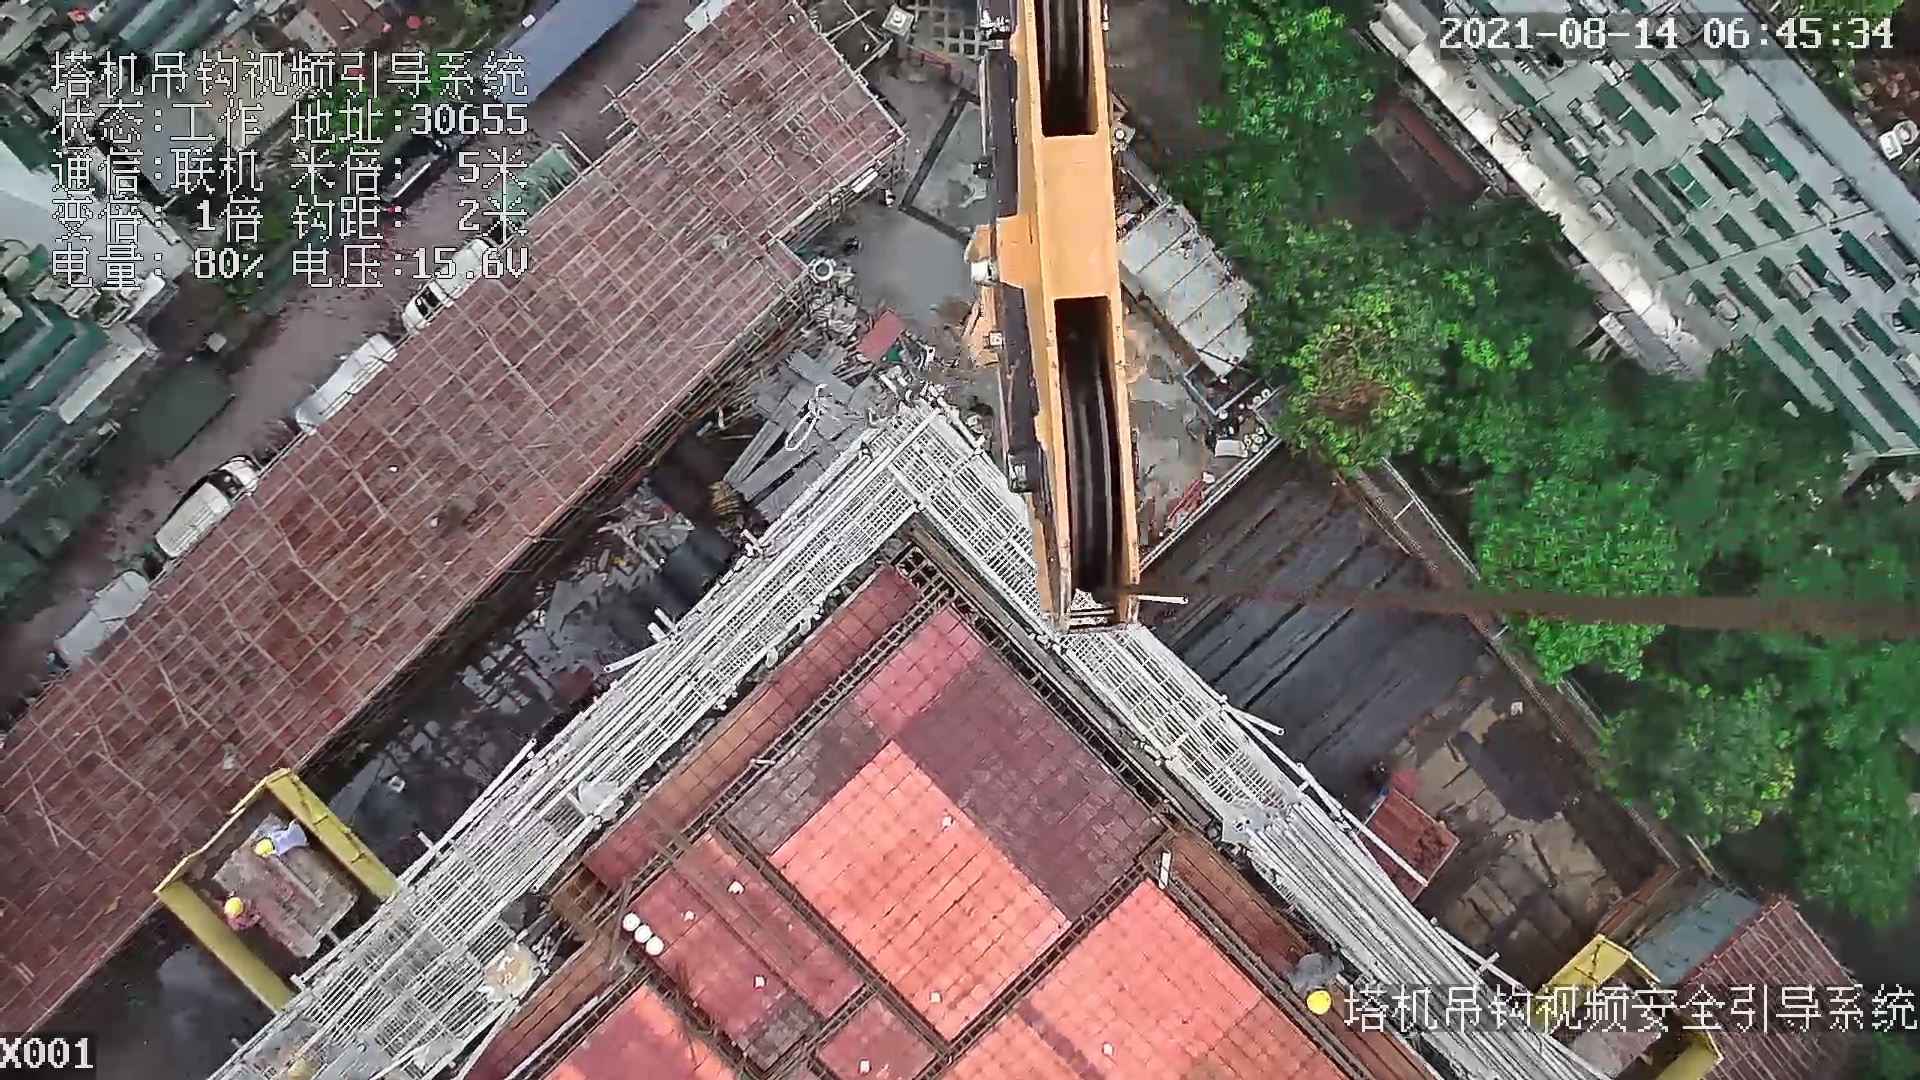helmet: (1303, 986, 1330, 1015), (256, 837, 271, 854), (225, 895, 241, 912)
person: (1286, 941, 1354, 1024), (255, 823, 310, 863), (223, 895, 259, 930)
